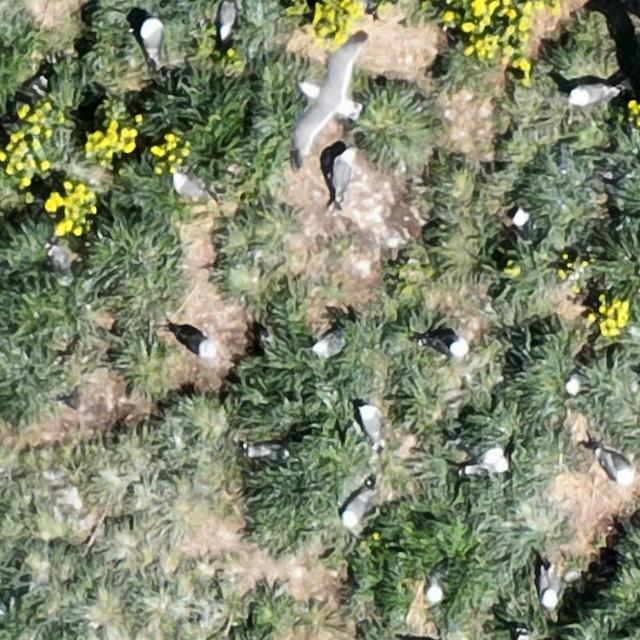F: (299, 54, 359, 143)
umineko: (327, 148, 357, 203), (170, 325, 217, 360), (172, 173, 211, 208), (426, 571, 451, 609), (138, 18, 160, 56), (343, 491, 369, 523), (571, 85, 610, 106), (606, 455, 632, 484), (540, 566, 559, 605), (312, 332, 340, 357), (432, 336, 467, 356), (219, 1, 236, 38), (362, 407, 381, 440), (512, 206, 531, 237), (567, 376, 587, 395)
